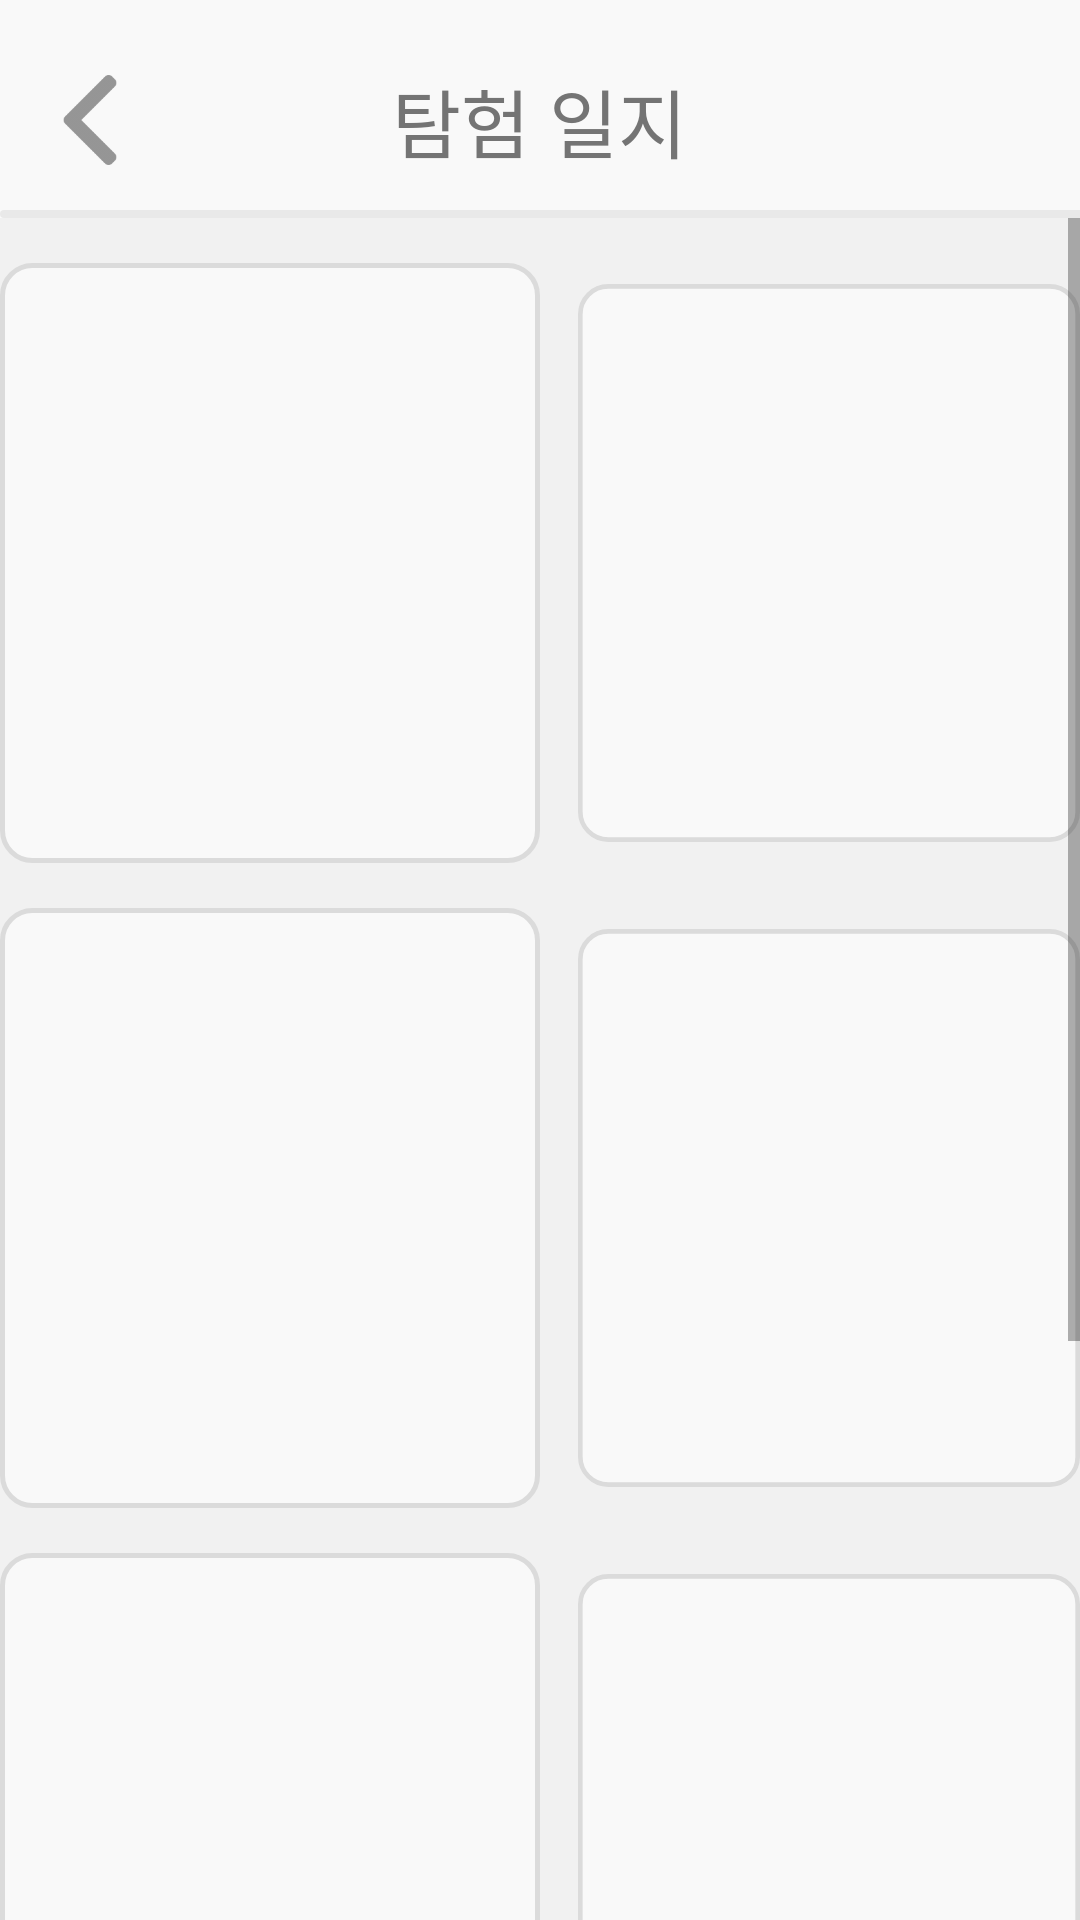

Icon bounding boxes for this 1080x1920 phone screenshot, format (x1, y1, x2, y2):
back: (63, 75, 117, 165)
